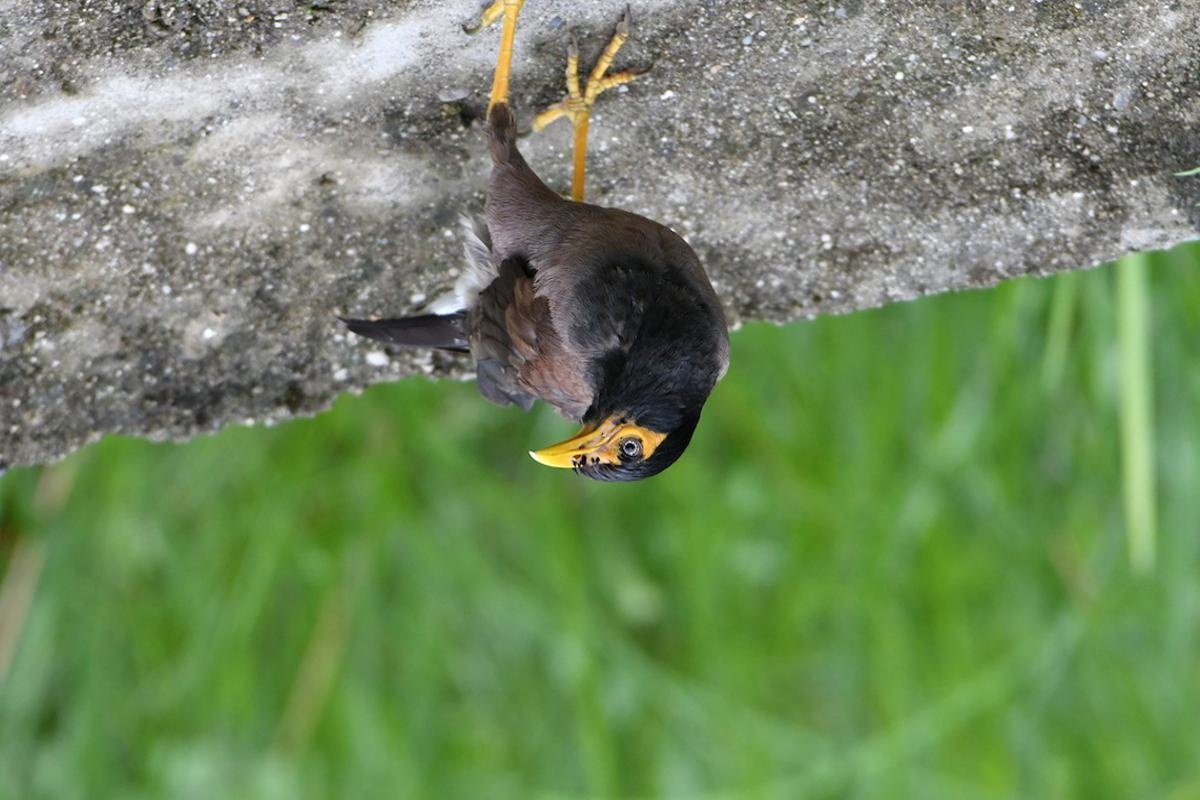myna: (424, 72, 771, 486)
